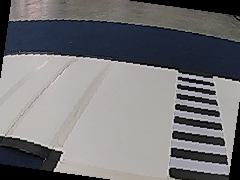CrossWalk: (165, 64, 229, 179)
